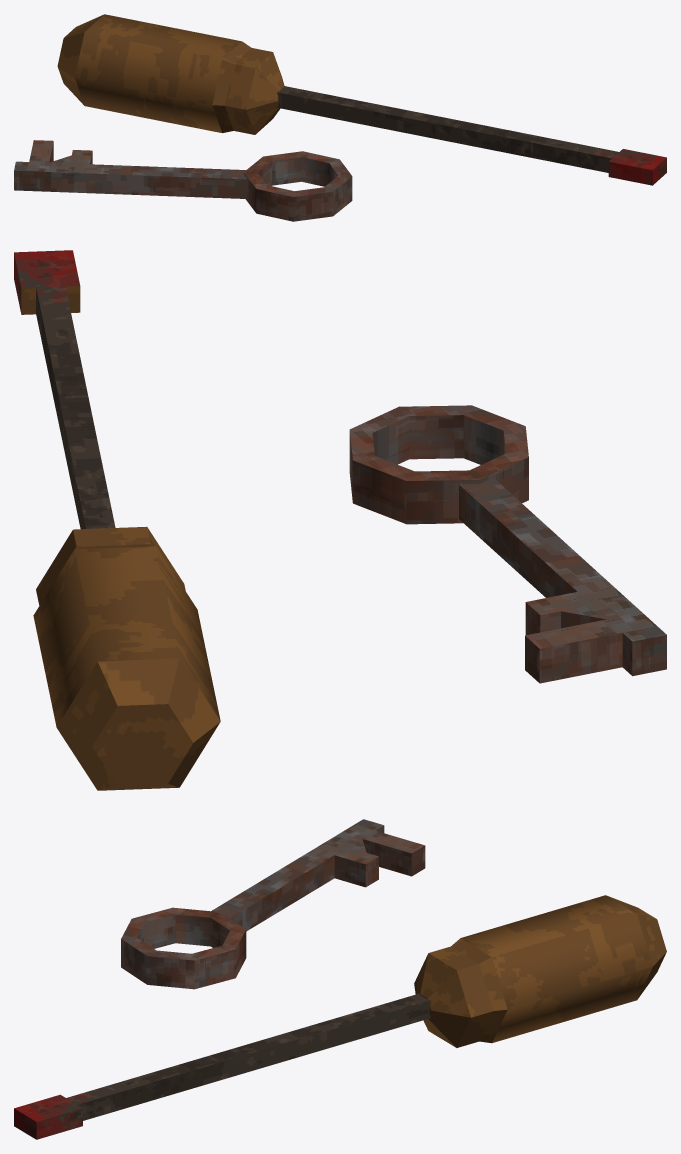
Rendered from Keys.FBX.
3 views of the same model, one above another, from view 1: azimuth 30°, elevation 25°; view 2: azimuth 150°, elevation 25°; view 3: azimuth 270°, elevation 25° (orthographic). The views are drawn at different scales.
Parts seen in each view (by area): view 1: Key; view 2: Key; view 3: Key.
Part boxes in pixels (x1=…): Key: x1=14, y1=14, x2=666, y2=221; Key: x1=14, y1=250, x2=666, y2=790; Key: x1=14, y1=819, x2=666, y2=1139.
Bounding box in the file's own units: 5.53 × 0.7605 × 5.22.
1 material, 1 textured.
